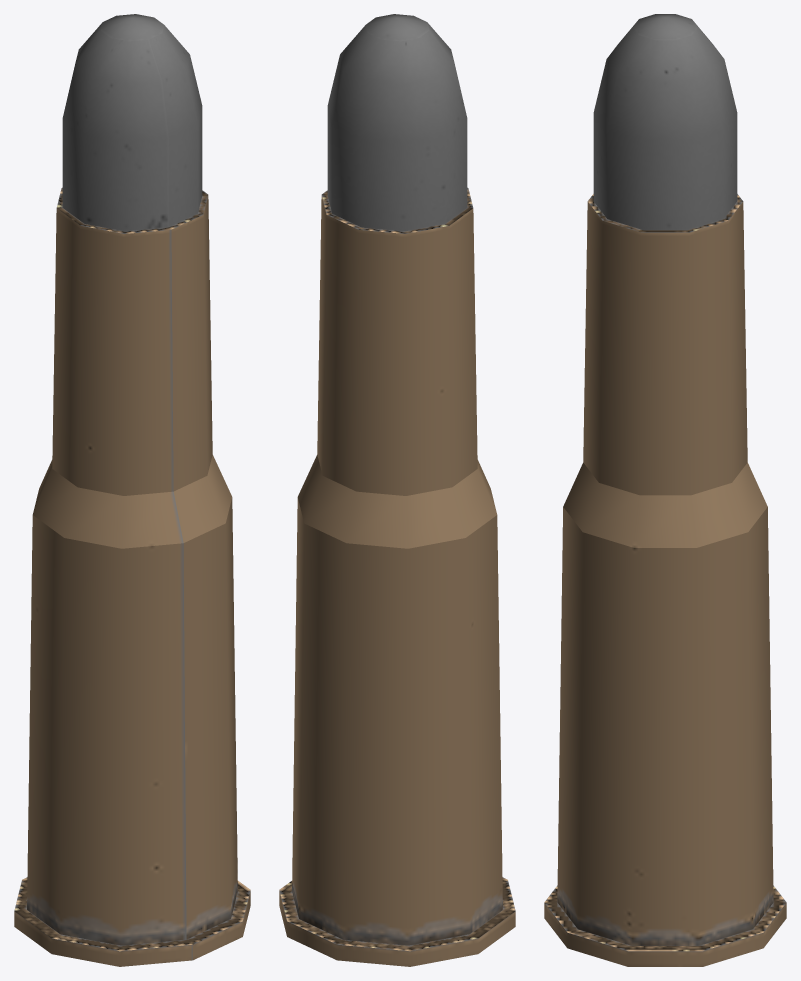
File: bullet.glb
The picture shows the model from 3 angles, left to right: view 1: azimuth 30°, elevation 25°; view 2: azimuth 150°, elevation 25°; view 3: azimuth 270°, elevation 25°; orthographic projection.
Visible parts, largest first — view 1: Bullet:pCylinder1; view 2: Bullet:pCylinder1; view 3: Bullet:pCylinder1.
Part boxes in pixels (x1,y1,x2,y2): Bullet:pCylinder1: (14,14,250,966); Bullet:pCylinder1: (279,14,515,966); Bullet:pCylinder1: (544,14,786,966).
Bounding box in the file's own units: 0.00336 × 0.0145 × 0.00353.
Materials: 2 (2 with a texture image).
